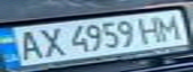4: (63, 21, 90, 54)
5: (100, 19, 124, 49)
9: (81, 20, 106, 52), (115, 17, 139, 47)
A: (9, 28, 45, 62)
H: (133, 15, 166, 44)
M: (151, 11, 184, 42)
X: (33, 25, 66, 58)
